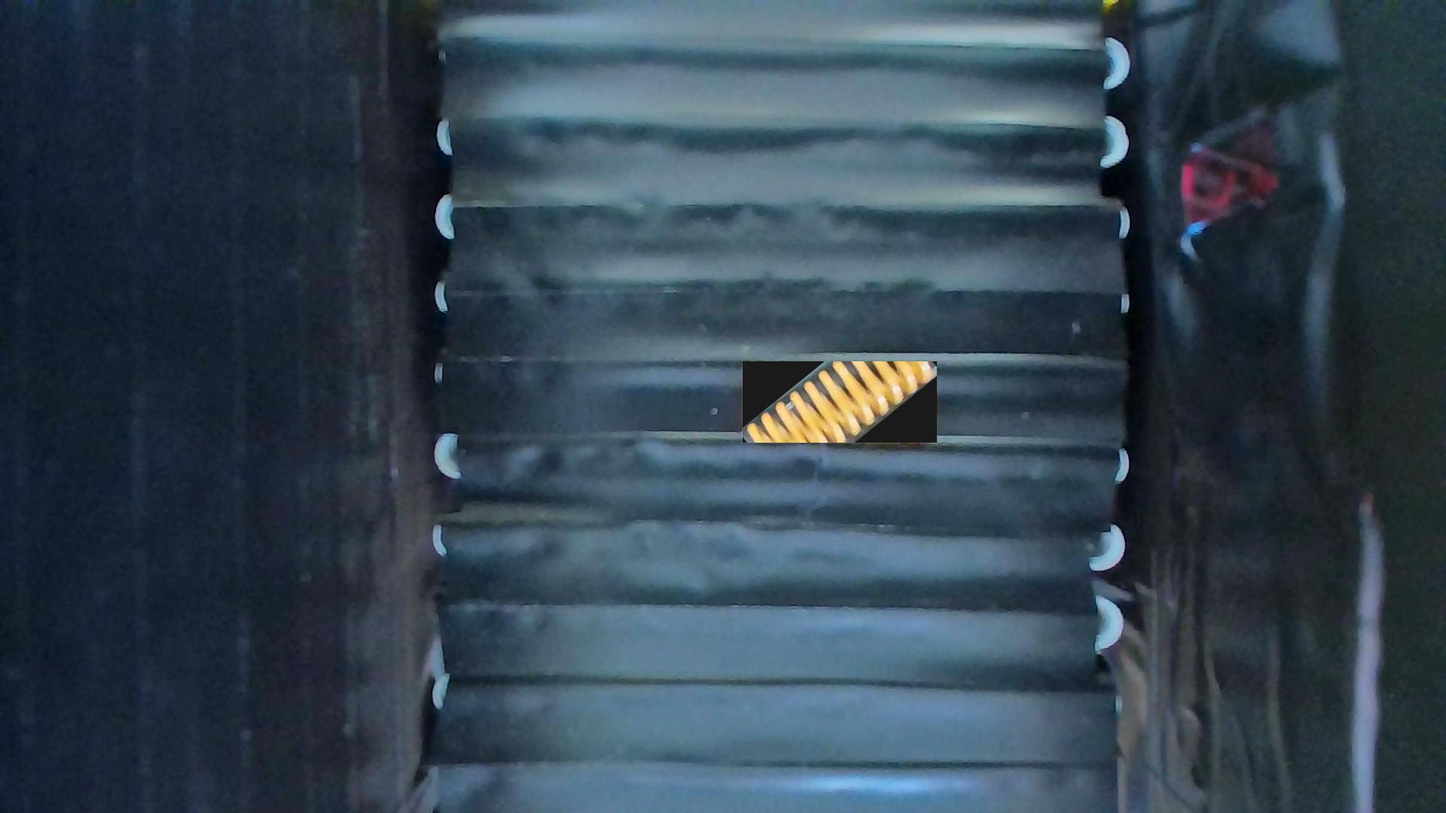spring: (741, 362, 936, 444)
